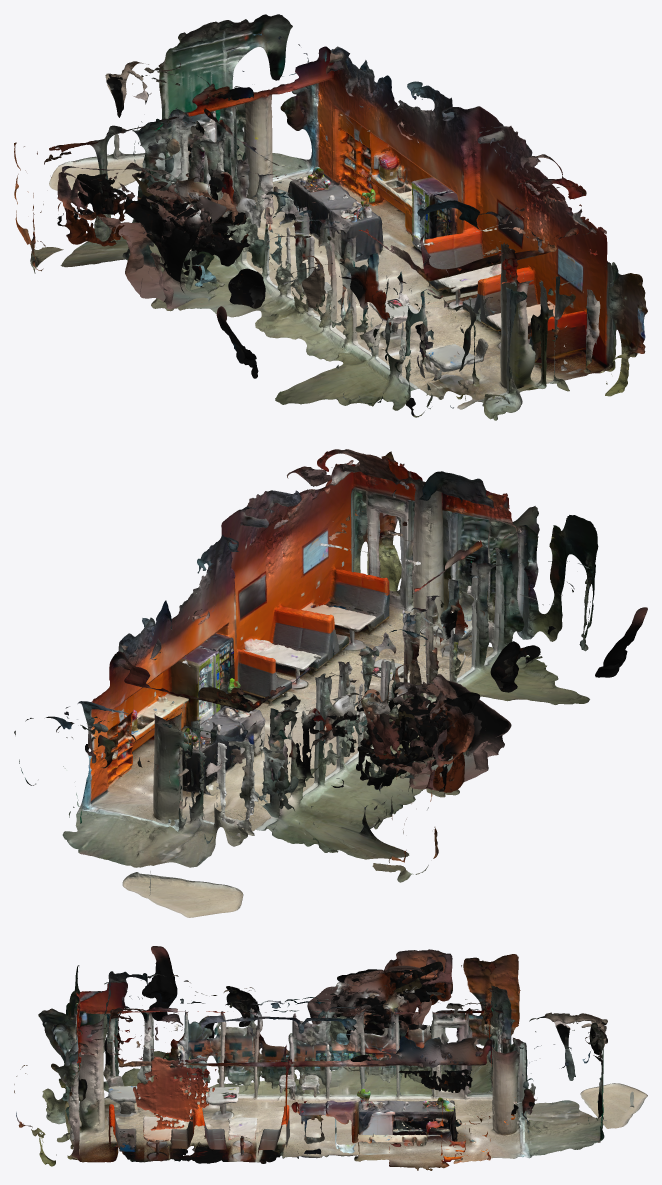
The model's file is room.glb.
3 views of the same model, one above another, from view 1: azimuth 30°, elevation 25°; view 2: azimuth 150°, elevation 25°; view 3: azimuth 270°, elevation 25° (orthographic). The views are drawn at different scales.
Size of the model in its own units: 10.22 by 5.2 by 19.94.
6 materials, 6 textured.
